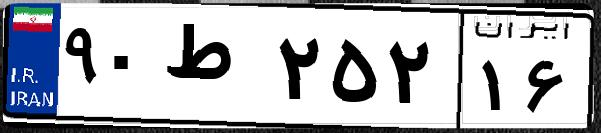0: (110, 28, 158, 98)
1: (475, 38, 525, 113)
2: (270, 28, 330, 110), (385, 28, 445, 110)
5: (330, 28, 385, 110)
6: (525, 38, 570, 115)
9: (57, 26, 110, 100)
ط: (158, 20, 270, 120)
